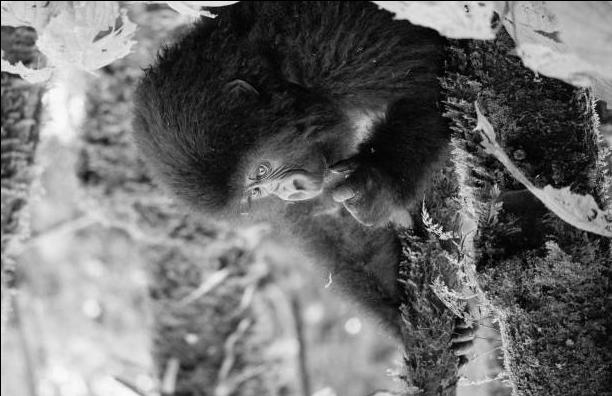goriile_montagne: (113, 1, 472, 382)
